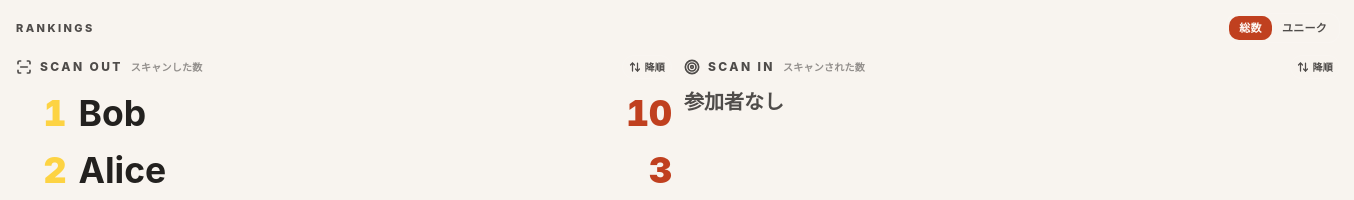
Scenario: RankingsTile › ユニーク toggle: SCAN OUT shows encountersOut and re-sorts by it
Click the button "ユニーク". click: (1304, 28)
box: [1272,16,1337,40]
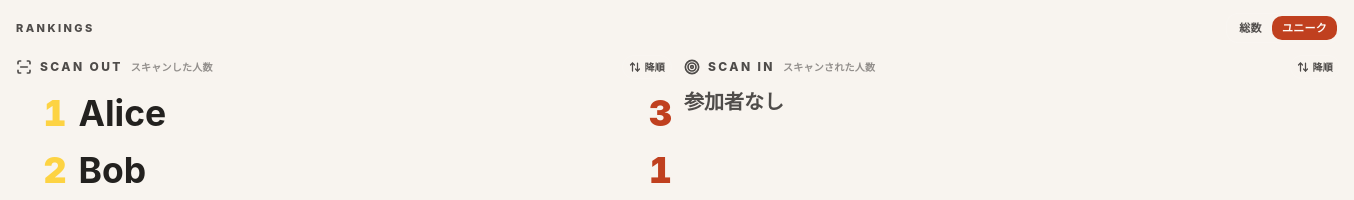
Expected: the text "3" is shown, [649,87,672,140]
Now the text "10" is gone
